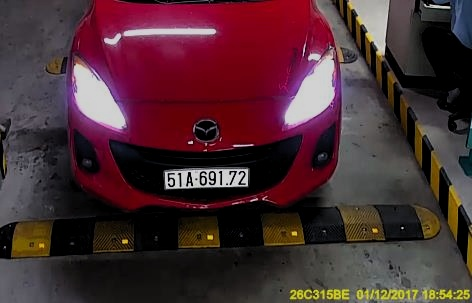plate: (155, 162, 254, 195)
